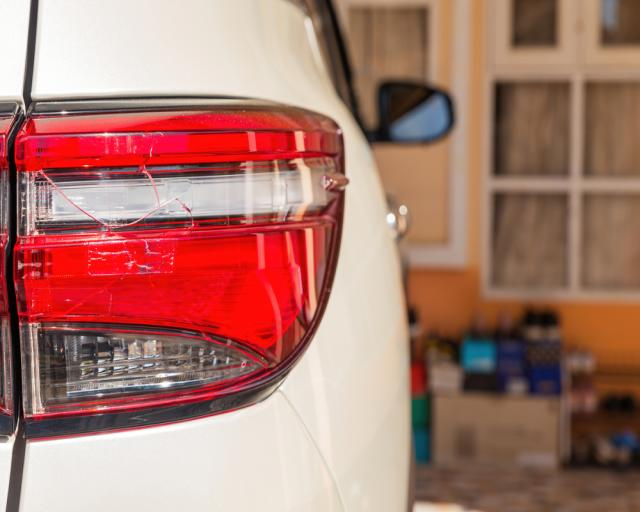lamp broken: (13, 104, 344, 419)
